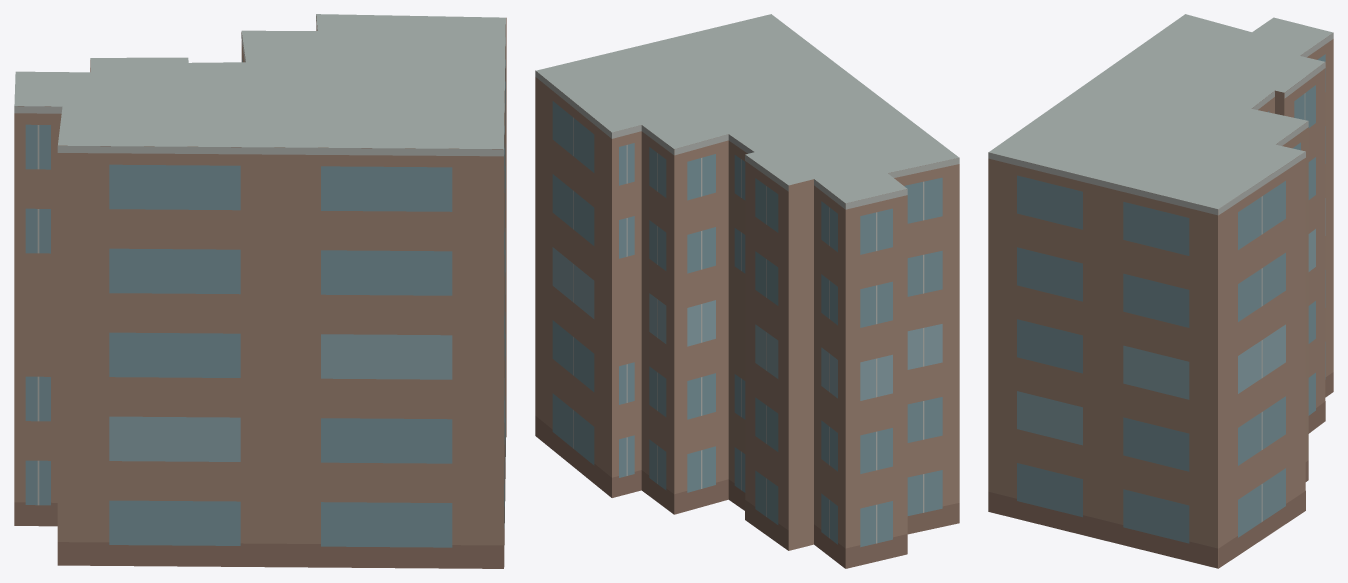
File: survey-upis-32730718.glb
3 views of the same model, side by side, from view 1: azimuth 30°, elevation 25°; view 2: azimuth 150°, elevation 25°; view 3: azimuth 270°, elevation 25° (orthographic). The views are drawn at different scales.
Visible parts, largest first — view 1: survey-upis-32730718.tmp; view 2: survey-upis-32730718.tmp; view 3: survey-upis-32730718.tmp.
Part boxes in pixels (left/top/right/bottom): survey-upis-32730718.tmp: left=14, top=14, right=506, bottom=568; survey-upis-32730718.tmp: left=535, top=14, right=959, bottom=568; survey-upis-32730718.tmp: left=988, top=14, right=1333, bottom=568.
Bounding box in the file's own units: 16.58 × 14.2 × 12.37.
